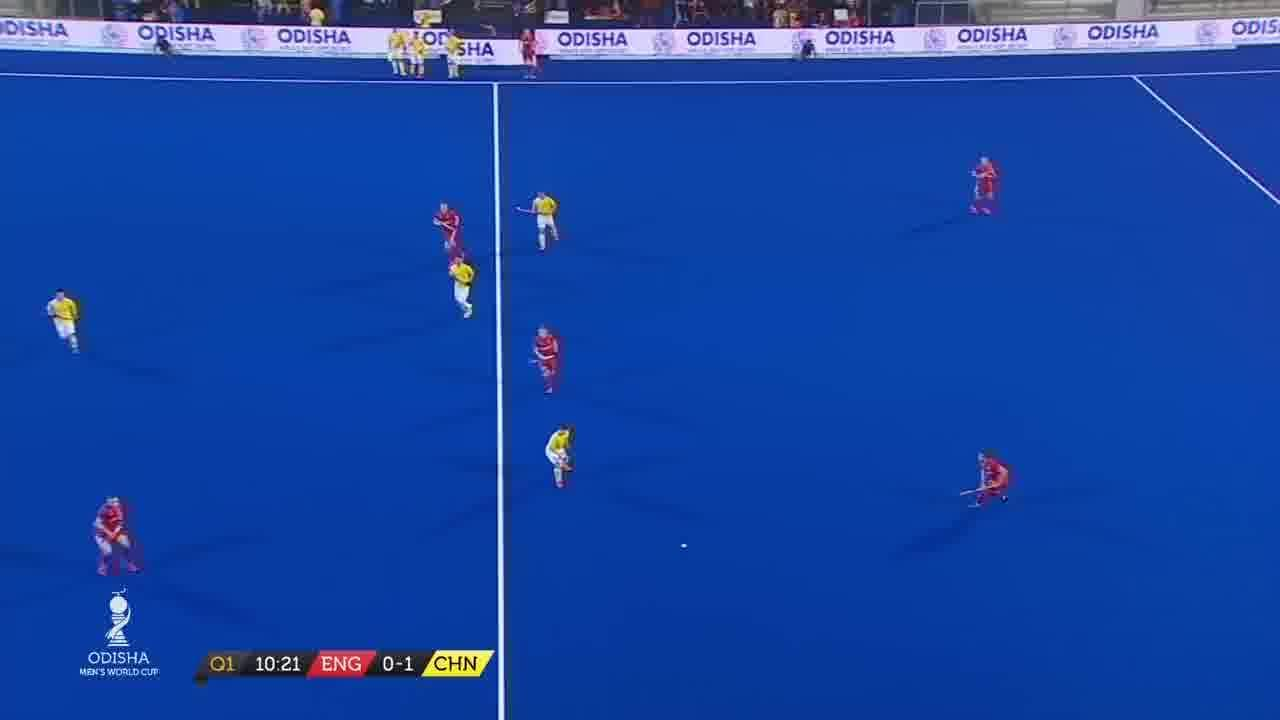ball: (680, 544, 692, 552)
